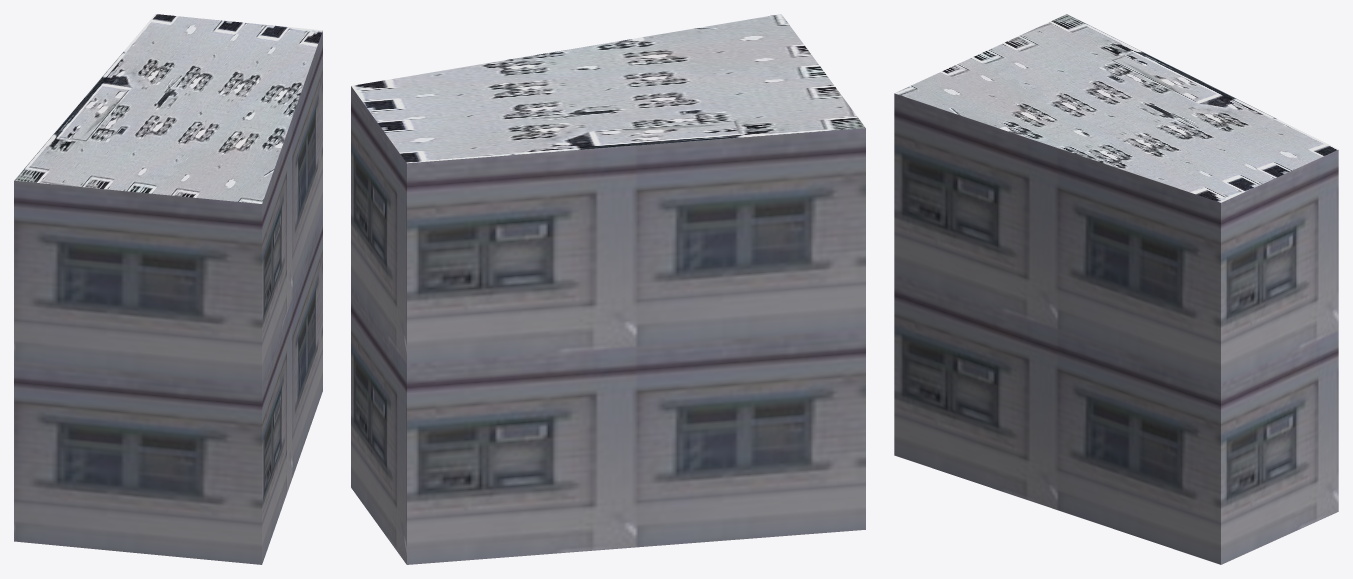
The model's file is ResTex__4783.fbx.
The picture shows the model from 3 angles, left to right: view 1: azimuth 30°, elevation 25°; view 2: azimuth 150°, elevation 25°; view 3: azimuth 270°, elevation 25°; orthographic projection. The views are drawn at different scales.
Parts seen in each view (by area): view 1: CityEngineMaterial_1_m, CityEngineMaterial_m; view 2: CityEngineMaterial_1_m, CityEngineMaterial_m; view 3: CityEngineMaterial_1_m, CityEngineMaterial_m.
Part boxes in pixels (x1,y1,x2,y2): CityEngineMaterial_1_m: [14, 31, 322, 564]; CityEngineMaterial_m: [14, 14, 322, 203]; CityEngineMaterial_1_m: [351, 86, 865, 564]; CityEngineMaterial_m: [351, 14, 865, 163]; CityEngineMaterial_1_m: [894, 93, 1338, 564]; CityEngineMaterial_m: [894, 14, 1338, 202].
Size of the model in its own units: 6.71 by 6 by 6.68.
2 materials, 2 textured.
